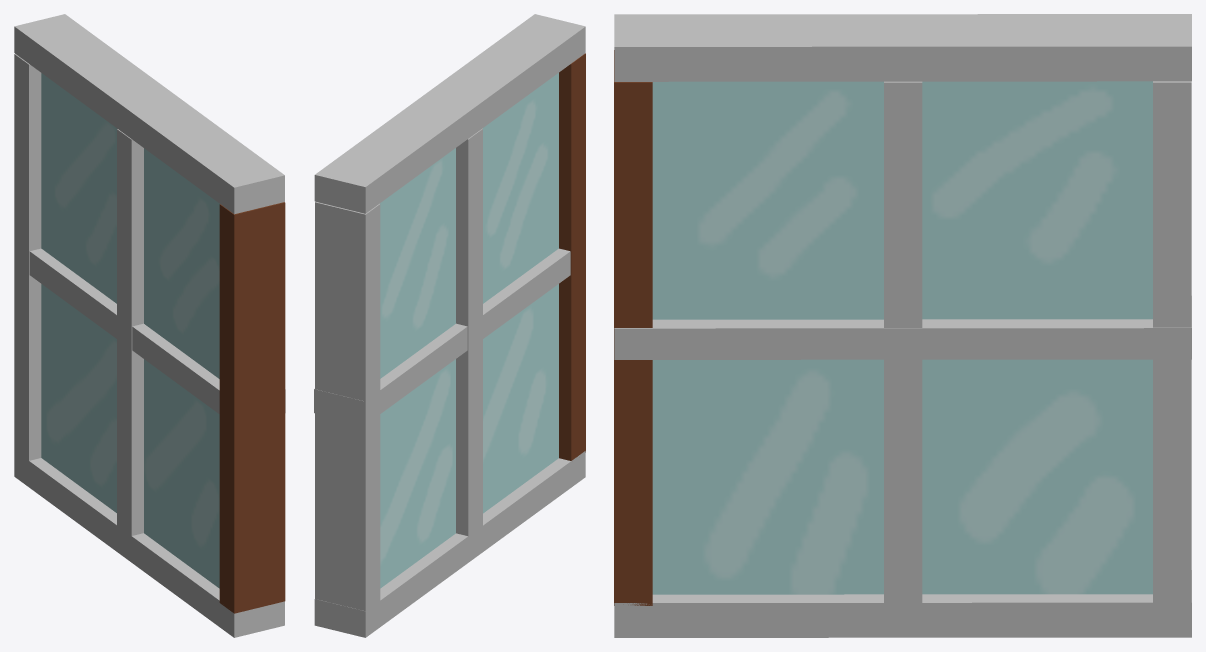
Rendered from Window1.fbx.
The picture shows the model from 3 angles, left to right: view 1: azimuth 30°, elevation 25°; view 2: azimuth 150°, elevation 25°; view 3: azimuth 270°, elevation 25°; orthographic projection. The views are drawn at different scales.
Visible parts, largest first — view 1: Cube, Cube.002, Cube.004, Cube.003, Cube.001, Cube.005, Cube.006; view 2: Cube, Cube.003, Cube.004, Cube.002, Cube.001, Cube.005, Cube.006; view 3: Cube, Cube.004, Cube.005, Cube.006, Cube.003, Cube.001, Cube.002.
Part boxes in pixels (bbox=[...]): Cube: bbox=[41, 73, 219, 588]; Cube.002: bbox=[219, 202, 285, 613]; Cube.004: bbox=[14, 14, 284, 214]; Cube.003: bbox=[14, 54, 41, 462]; Cube.001: bbox=[117, 129, 143, 537]; Cube.005: bbox=[14, 451, 284, 637]; Cube.006: bbox=[29, 248, 285, 413]; Cube: bbox=[380, 73, 558, 588]; Cube.003: bbox=[315, 202, 380, 613]; Cube.004: bbox=[314, 14, 585, 213]; Cube.002: bbox=[559, 53, 585, 460]; Cube.001: bbox=[456, 128, 482, 536]; Cube.005: bbox=[314, 451, 585, 637]; Cube.006: bbox=[314, 248, 570, 425]; Cube: bbox=[652, 81, 1152, 594]; Cube.004: bbox=[614, 14, 1191, 81]; Cube.005: bbox=[614, 570, 1191, 637]; Cube.006: bbox=[614, 296, 1191, 359]; Cube.003: bbox=[1153, 81, 1191, 605]; Cube.001: bbox=[884, 81, 922, 605]; Cube.002: bbox=[614, 50, 652, 605].
Size of the model in its own units: 40.52 by 339 by 300.
